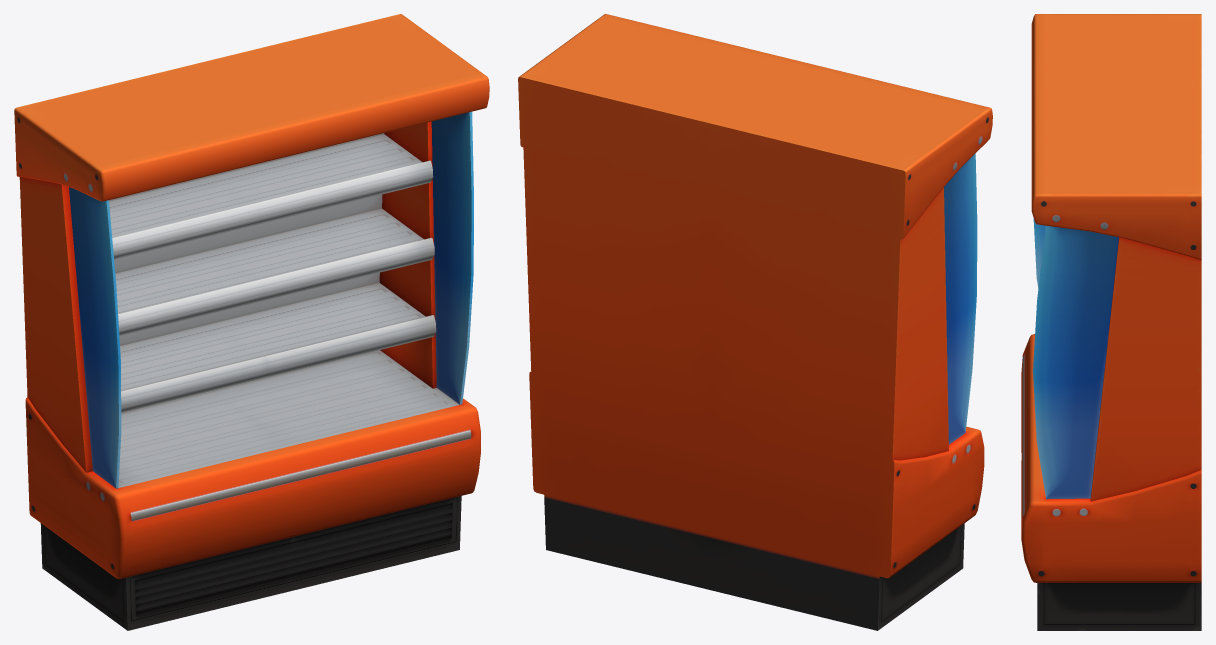
File: CommRefrigerator02.FBX
The picture shows the model from 3 angles, left to right: view 1: azimuth 30°, elevation 25°; view 2: azimuth 150°, elevation 25°; view 3: azimuth 270°, elevation 25°; orthographic projection. The views are drawn at different scales.
Parts seen in each view (by area): view 1: CommRefrigerator02; view 2: CommRefrigerator02; view 3: CommRefrigerator02.
Part boxes in pixels (x1,y1,x2,y2): CommRefrigerator02: [14, 14, 489, 630]; CommRefrigerator02: [518, 14, 992, 630]; CommRefrigerator02: [1021, 14, 1201, 630].
Size of what is drawn, in the model's own units: 1.92 by 2.21 by 0.8045.
